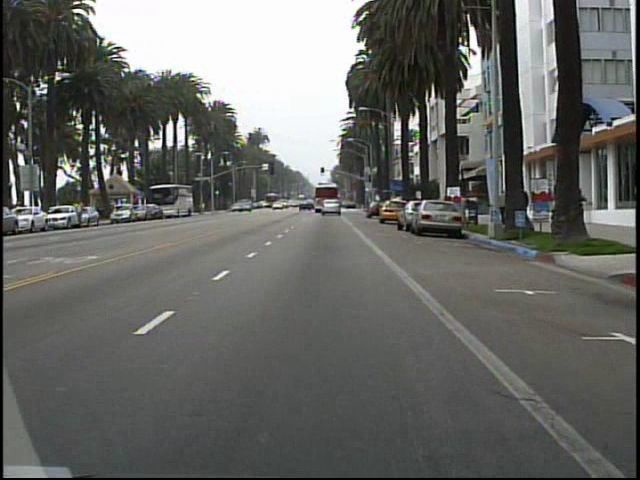person: (519, 181, 537, 231), (498, 189, 507, 227)
